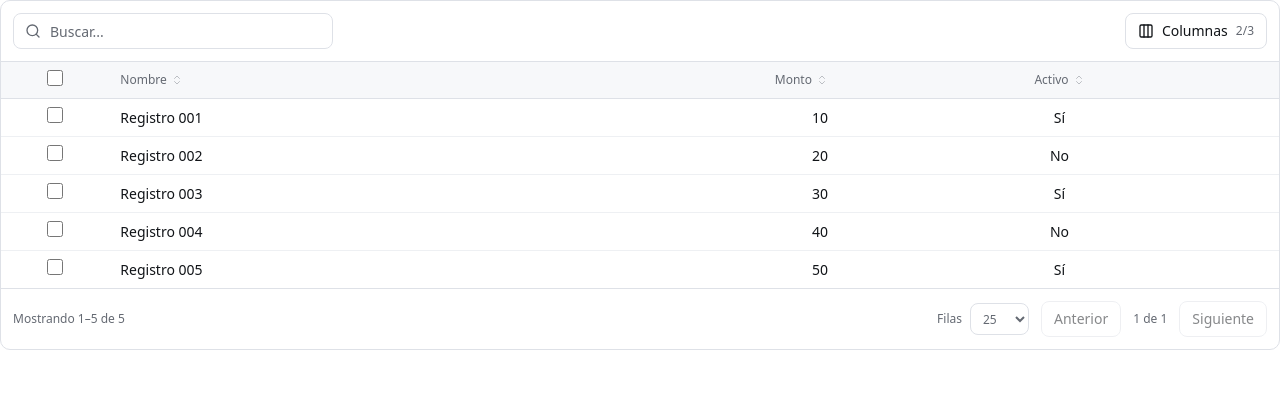
Test: Selección de filas › permite deseleccionar una fila
The width and height of the screenshot is (1280, 420).
Click the checkbox named "Seleccionar fila" next to "Registro 001".
click(55, 115)  # box left=47, top=107, right=63, bottom=123
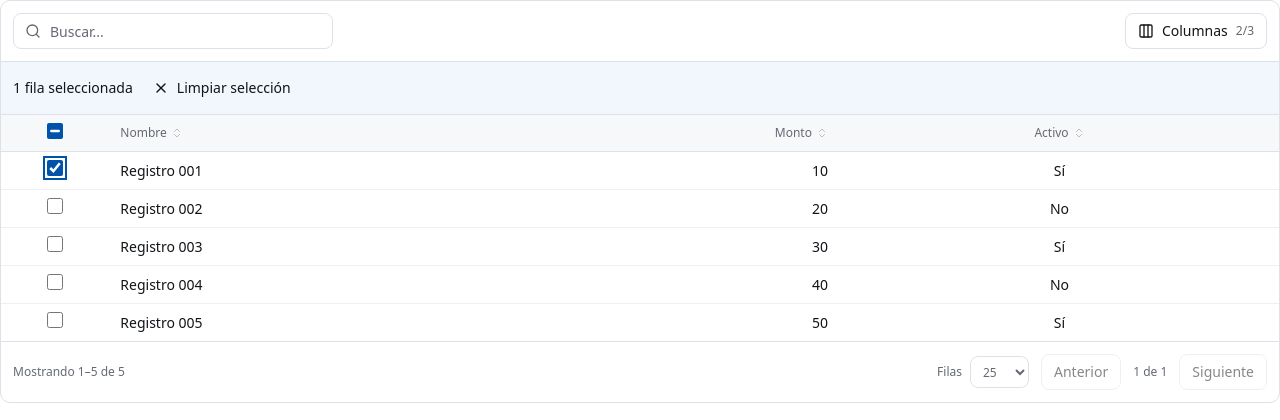
Click the checkbox named "Seleccionar fila" next to "Registro 001".
click(55, 168)  # box left=47, top=160, right=63, bottom=176
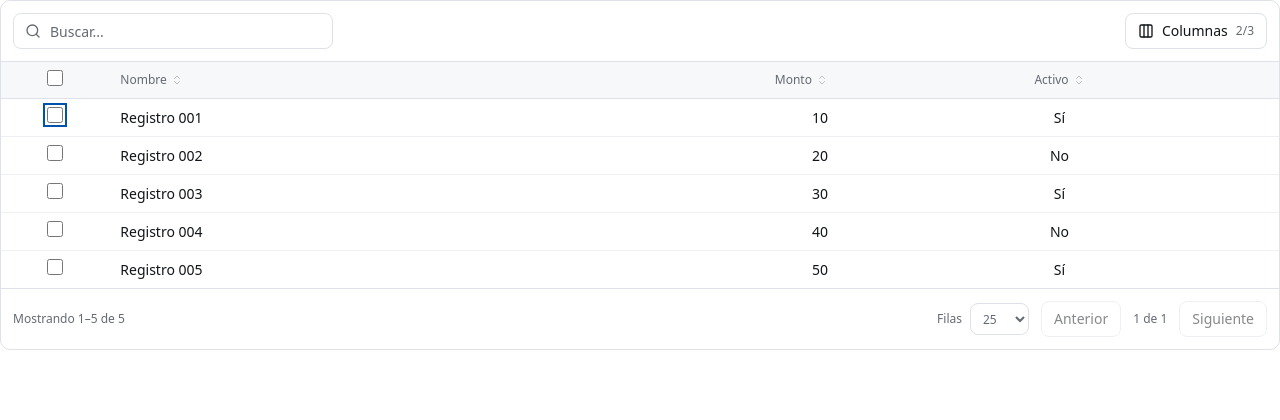
Now the text "1 fila seleccionada" is gone
